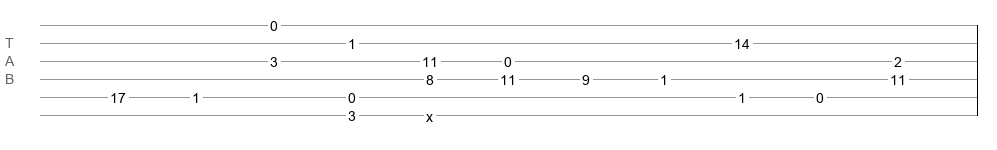0: (270, 18, 278, 28), (348, 90, 356, 100), (504, 54, 512, 64), (816, 90, 824, 100)
1: (192, 90, 200, 100), (348, 36, 356, 46), (660, 72, 668, 82), (738, 90, 746, 100)
11: (422, 54, 438, 64), (500, 72, 516, 82), (890, 72, 906, 82)
14: (734, 36, 750, 46)
17: (110, 90, 126, 100)
2: (894, 54, 902, 64)
3: (270, 54, 278, 64), (348, 108, 356, 118)
8: (426, 72, 434, 82)
9: (582, 72, 590, 82)
x: (426, 109, 433, 117)
